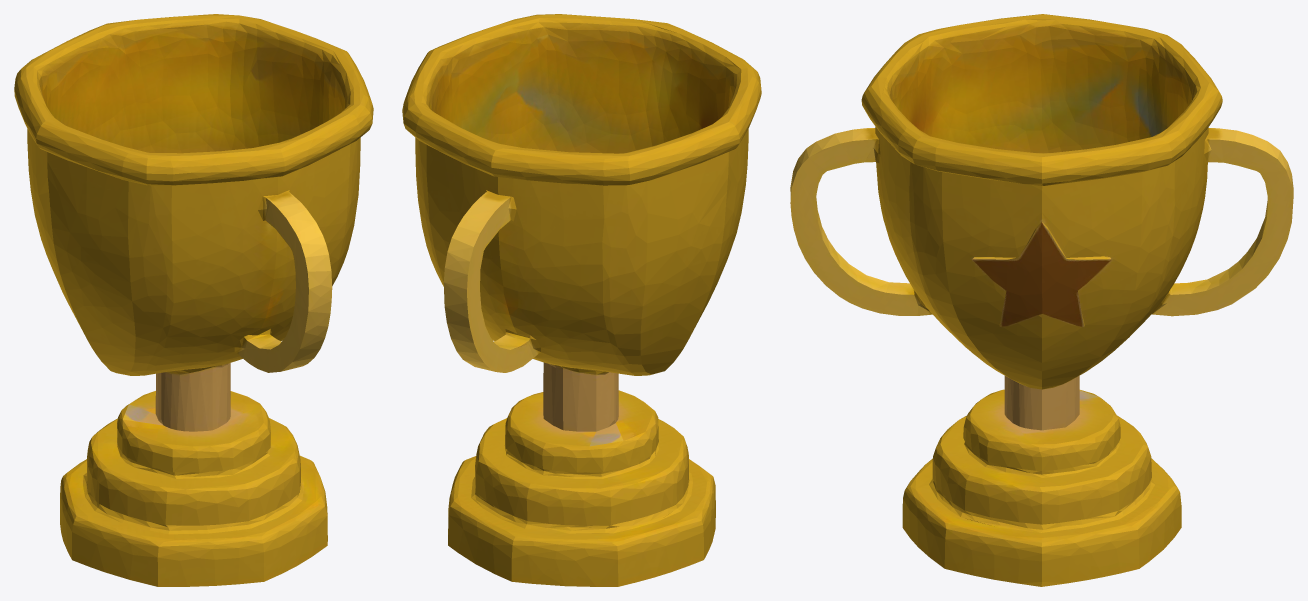
Rendered from golden-trophy-hd.glb.
3 views of the same model, side by side, from view 1: azimuth 30°, elevation 25°; view 2: azimuth 150°, elevation 25°; view 3: azimuth 270°, elevation 25° (orthographic).
Parts seen in each view (by area): view 1: tripo_node_7cd1c740-cce4-4752-b48d-6a6747ff7b54; view 2: tripo_node_7cd1c740-cce4-4752-b48d-6a6747ff7b54; view 3: tripo_node_7cd1c740-cce4-4752-b48d-6a6747ff7b54.
Part boxes in pixels (x1,y1,x2,y2): tripo_node_7cd1c740-cce4-4752-b48d-6a6747ff7b54: (14,14,373,586); tripo_node_7cd1c740-cce4-4752-b48d-6a6747ff7b54: (402,14,761,586); tripo_node_7cd1c740-cce4-4752-b48d-6a6747ff7b54: (790,14,1293,586).
Size of the model in its own units: 0.7193 by 0.9698 by 1.
Materials: 1 (1 with a texture image).
